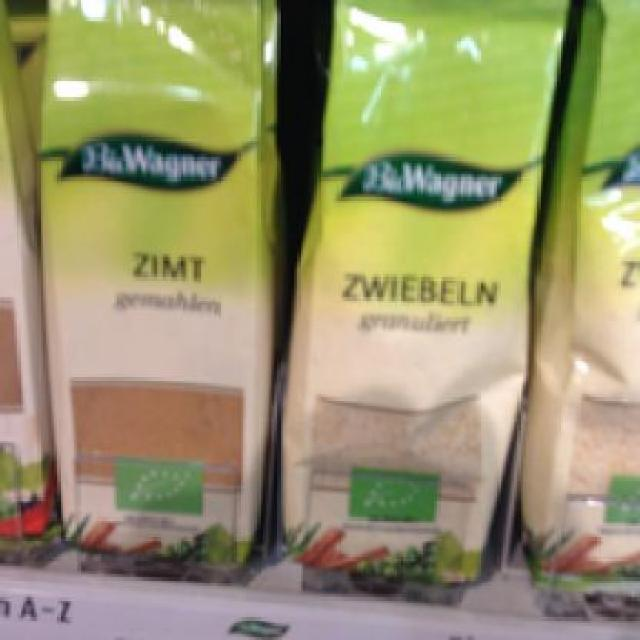Spices: (284, 0, 569, 575), (36, 0, 275, 572)
